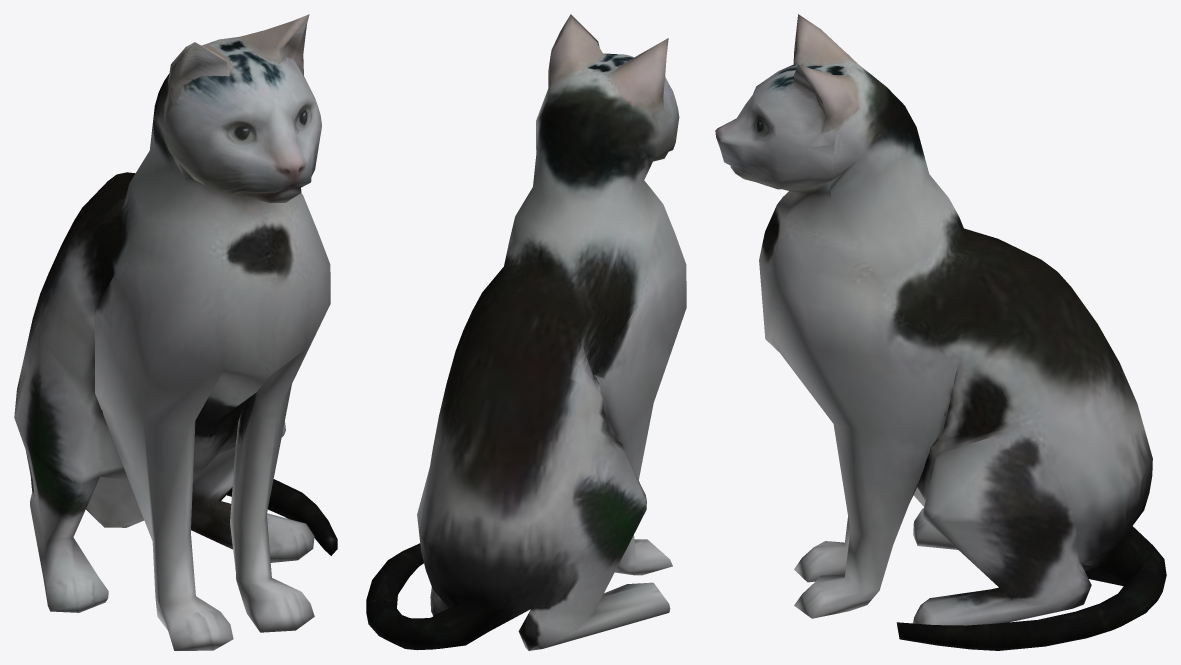
File: cat.gltf
3 views of the same model, side by side, from view 1: azimuth 30°, elevation 25°; view 2: azimuth 150°, elevation 25°; view 3: azimuth 270°, elevation 25° (orthographic). The views are drawn at different scales.
Parts seen in each view (by area): view 1: node-0; view 2: node-0; view 3: node-0.
Boxes of the visible parts, <box> form: node-0: <box>14,14,337,650</box>; node-0: <box>366,14,686,650</box>; node-0: <box>715,14,1166,650</box>.
Bounding box in the file's own units: 22.86 × 45.62 × 33.99.
1 material, 1 textured.
